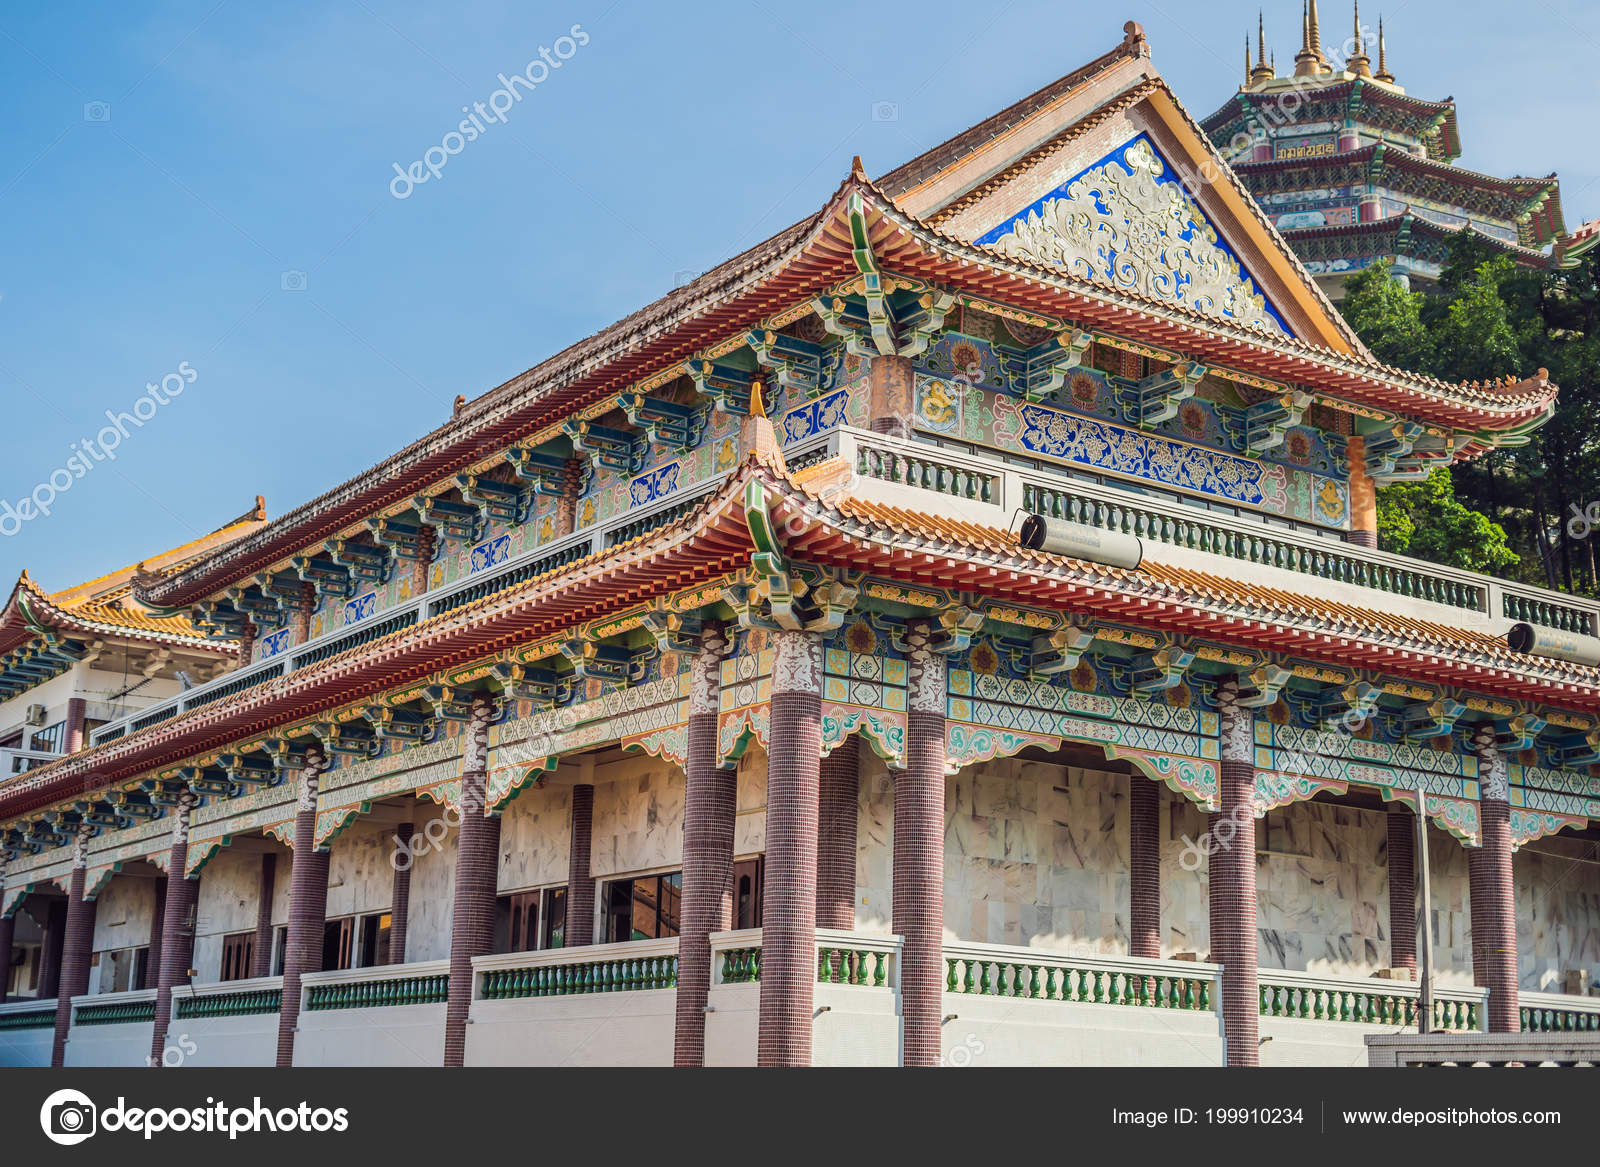Buddhist Temple: (29, 56, 1585, 1055)
